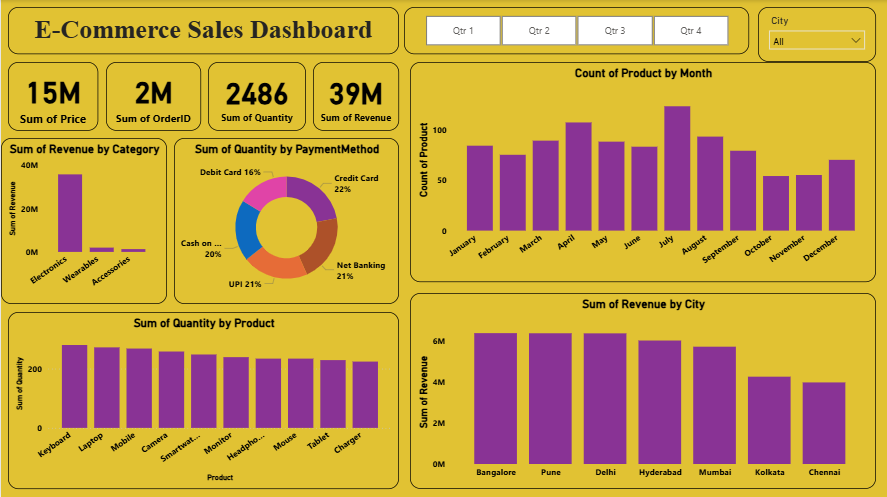

The page's visual inventory and layout, read from the dashboard file:
{"tool":"powerbi","page":{"name":"Page 1","canvas":[1280,720],"ordinal":0},"visuals":[{"type":"textbox","box":[10.1,10.1,563,67.7],"z":0},{"type":"columnChart","fields":{"Category":["ecommerce_dataset.OrderDate.Variation.Date Hierarchy.Month"],"Y":["CountNonNull(ecommerce_dataset.Product)"]},"box":[589,89.3,671,316.8],"z":1000},{"type":"columnChart","fields":{"Category":["ecommerce_dataset.Category"],"Y":["Sum(ecommerce_dataset.Revenue)"]},"box":[0,198.7,239,239],"z":2000},{"type":"columnChart","fields":{"Category":["ecommerce_dataset.Product"],"Y":["Sum(ecommerce_dataset.Quantity)"]},"box":[10.1,449.3,563,254.9],"z":3000},{"type":"donutChart","fields":{"Y":["Sum(ecommerce_dataset.Quantity)"],"Category":["ecommerce_dataset.PaymentMethod"]},"box":[249.1,198.7,324,239],"z":4000},{"type":"card","fields":{"Values":["Sum(ecommerce_dataset.Price)"]},"box":[10.1,89.3,129.6,99.4],"z":5000},{"type":"card","fields":{"Values":["Sum(ecommerce_dataset.OrderID)"]},"box":[151.2,89.3,136.8,99.4],"z":5001},{"type":"card","fields":{"Values":["Sum(ecommerce_dataset.Quantity)"]},"box":[298.1,89.3,141.1,99.4],"z":5002},{"type":"card","fields":{"Values":["Sum(ecommerce_dataset.Revenue)"]},"box":[449.3,89.3,123.8,99.4],"z":5003},{"type":"clusteredColumnChart","fields":{"Y":["Sum(ecommerce_dataset.Revenue)"],"Category":["ecommerce_dataset.City"]},"box":[589,421.9,671,282.2],"z":5004},{"type":"slicer","fields":{"Values":["ecommerce_dataset.OrderDate.Variation.Date Hierarchy.Quarter"]},"box":[580.3,10.1,496.8,67.7],"z":5005},{"type":"slicer","fields":{"Values":["ecommerce_dataset.City"]},"box":[1090.1,10.1,169.9,79.2],"z":5006}]}

Visuals, with their boxes in screenshot pixels (x1, y1, x2, y2), scaled from the page's 1280x720 canvas onto the 887x497 screenshot:
textbox: detection(7, 7, 397, 54)
columnChart - ecommerce_dataset.OrderDate.Variation.Date Hierarchy.Month x CountNonNull(ecommerce_dataset.Product): detection(408, 62, 873, 280)
columnChart - ecommerce_dataset.Category x Sum(ecommerce_dataset.Revenue): detection(0, 137, 166, 302)
columnChart - ecommerce_dataset.Product x Sum(ecommerce_dataset.Quantity): detection(7, 310, 397, 486)
donutChart - Sum(ecommerce_dataset.Quantity) x ecommerce_dataset.PaymentMethod: detection(173, 137, 397, 302)
card - Sum(ecommerce_dataset.Price): detection(7, 62, 97, 130)
card - Sum(ecommerce_dataset.OrderID): detection(105, 62, 200, 130)
card - Sum(ecommerce_dataset.Quantity): detection(207, 62, 304, 130)
card - Sum(ecommerce_dataset.Revenue): detection(311, 62, 397, 130)
clusteredColumnChart - Sum(ecommerce_dataset.Revenue) x ecommerce_dataset.City: detection(408, 291, 873, 486)
slicer - ecommerce_dataset.OrderDate.Variation.Date Hierarchy.Quarter: detection(402, 7, 746, 54)
slicer - ecommerce_dataset.City: detection(755, 7, 873, 62)
